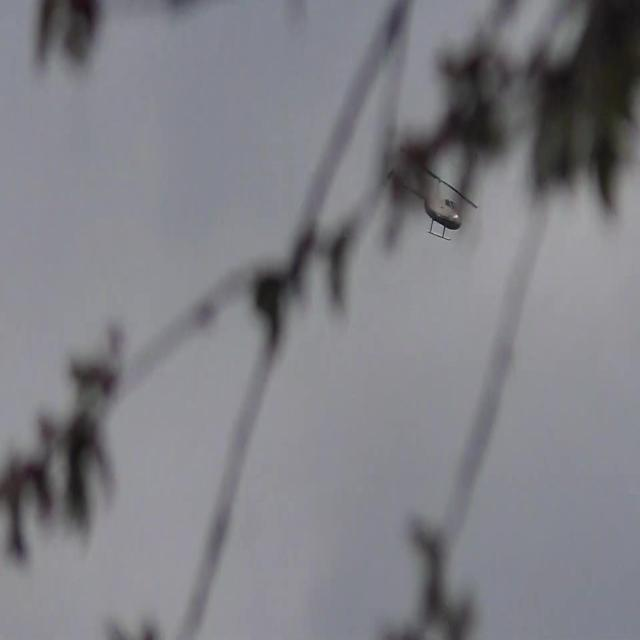CIV_HELO: (390, 166, 463, 244)
